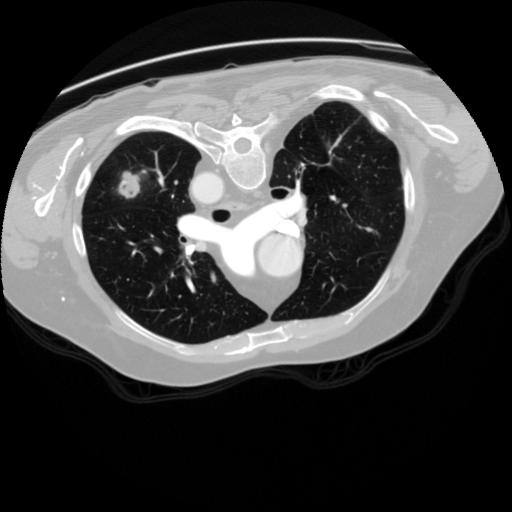nodule: (113, 169, 149, 205)
